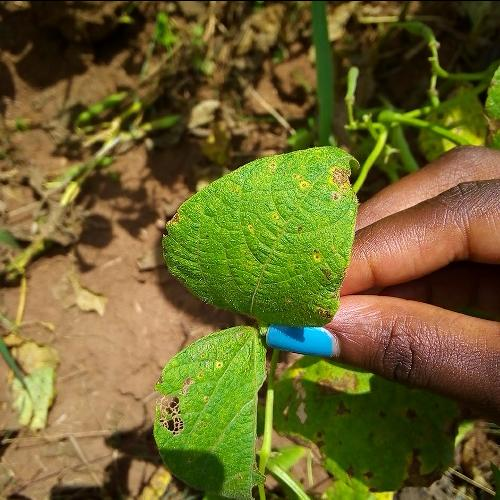hawar: (277, 126, 344, 286)
